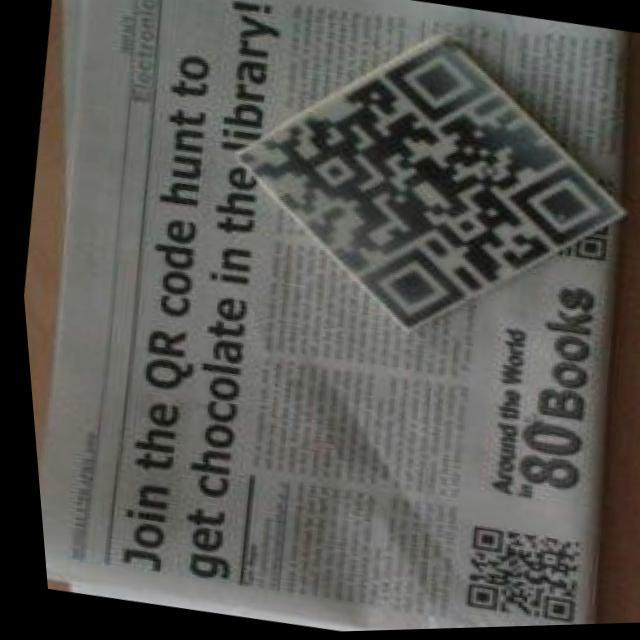qrcode: (200, 7, 640, 369), (449, 527, 575, 628)
